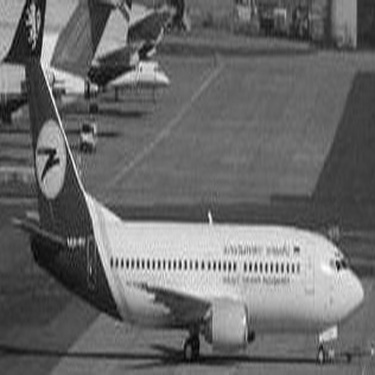airplane: (11, 17, 368, 370), (6, 6, 124, 101), (1, 11, 57, 123), (63, 22, 145, 92), (98, 44, 176, 92), (113, 3, 170, 51)
